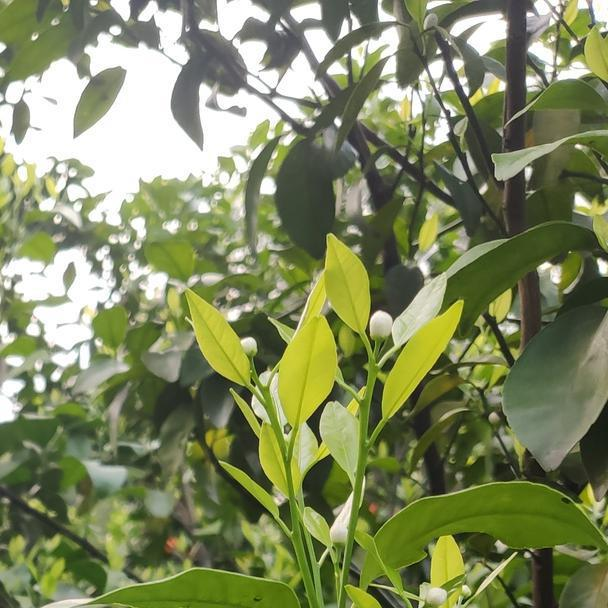shoot: (179, 286, 328, 543), (310, 241, 459, 489)
